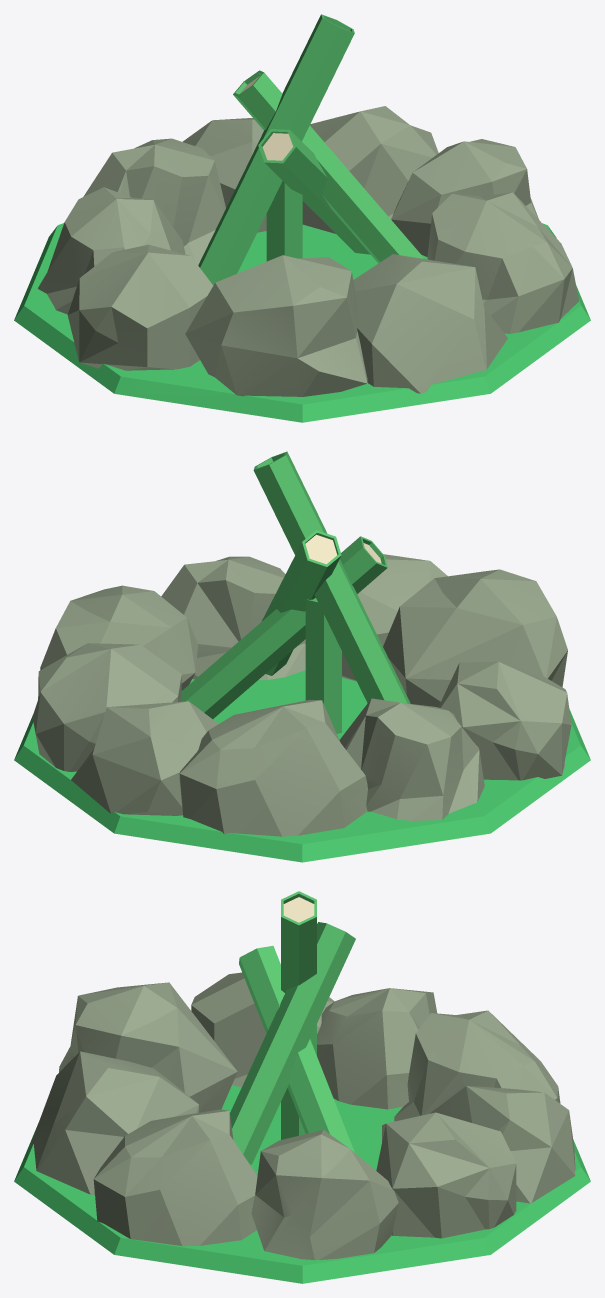
The model's file is Ognisko.fbx.
3 renders of one model, top to bottom at view 1: azimuth 30°, elevation 25°; view 2: azimuth 150°, elevation 25°; view 3: azimuth 270°, elevation 25°, orthographic.
Visible parts, largest first — view 1: Ognisko; view 2: Ognisko; view 3: Ognisko.
Boxes of the visible parts, x1,y1,x2,y2 form: Ognisko: (14, 14, 590, 422); Ognisko: (14, 451, 590, 862); Ognisko: (14, 891, 590, 1283).
Bounding box in the file's own units: 109 × 58.77 × 110.
